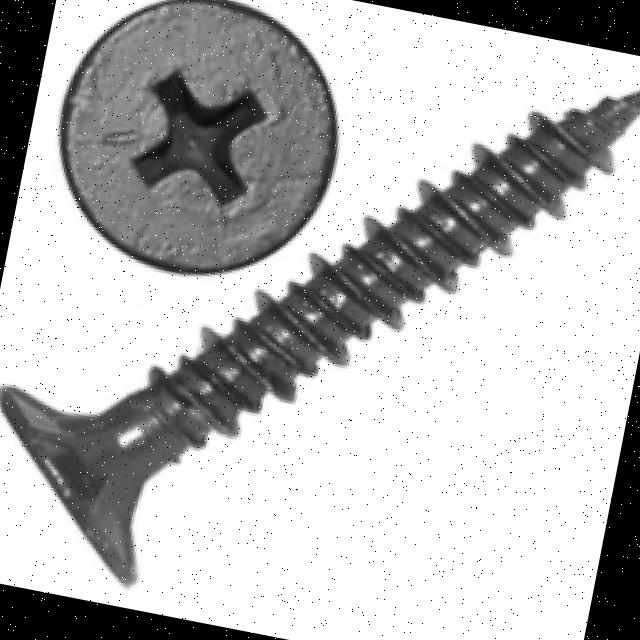Phillips: (37, 0, 364, 298)
